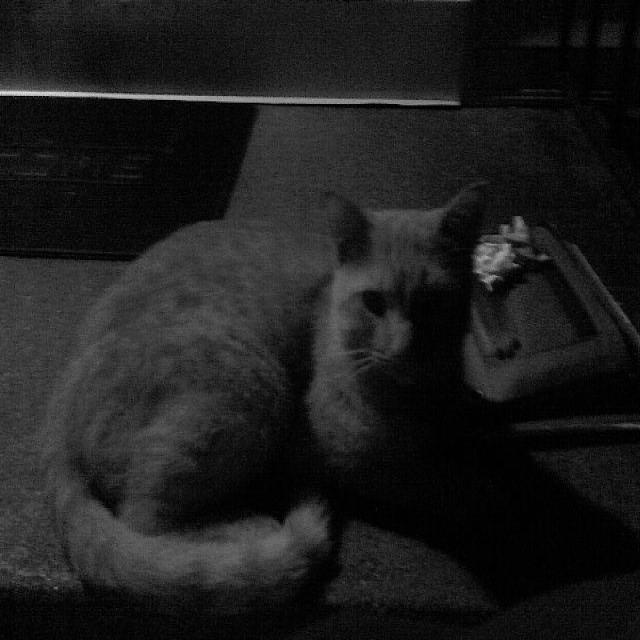Cat: (30, 180, 500, 631)
